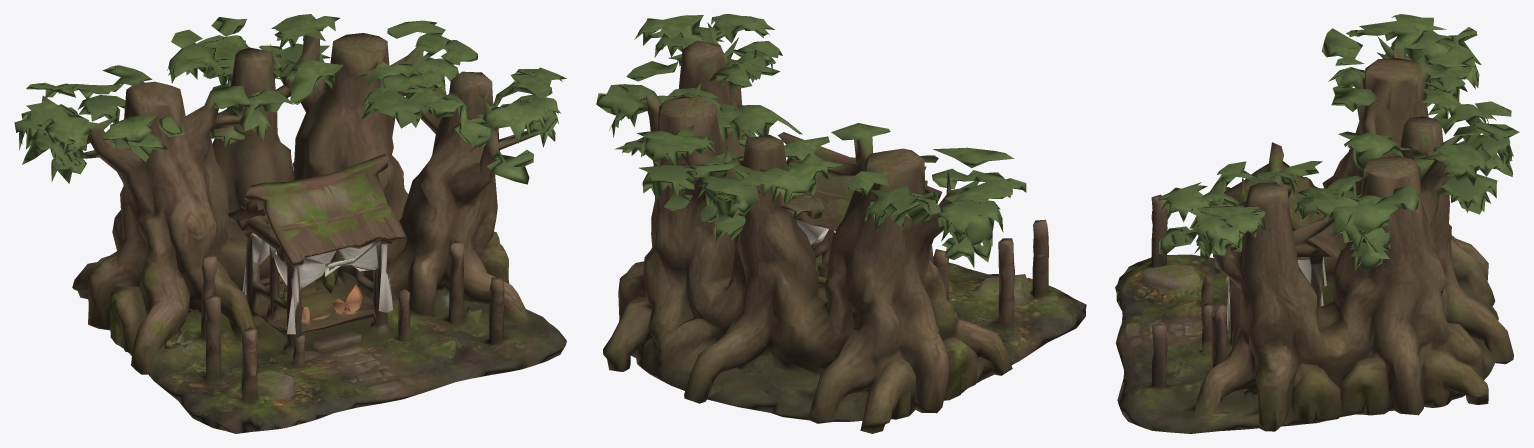
File: sacred_grove_main.glb
The picture shows the model from 3 angles, left to right: view 1: azimuth 30°, elevation 25°; view 2: azimuth 150°, elevation 25°; view 3: azimuth 270°, elevation 25°; orthographic projection. The views are drawn at different scales.
Visible parts, largest first — view 1: tripo_node_0d29d1db-6de9-4a64-9bac-9de893c1c243; view 2: tripo_node_0d29d1db-6de9-4a64-9bac-9de893c1c243; view 3: tripo_node_0d29d1db-6de9-4a64-9bac-9de893c1c243.
Part boxes in pixels (x1,y1,x2,y2): tripo_node_0d29d1db-6de9-4a64-9bac-9de893c1c243: (14,14,566,433); tripo_node_0d29d1db-6de9-4a64-9bac-9de893c1c243: (596,14,1086,433); tripo_node_0d29d1db-6de9-4a64-9bac-9de893c1c243: (1115,14,1519,433).
Bounding box in the file's own units: 1 × 0.4844 × 0.7911.
1 material, 1 textured.
